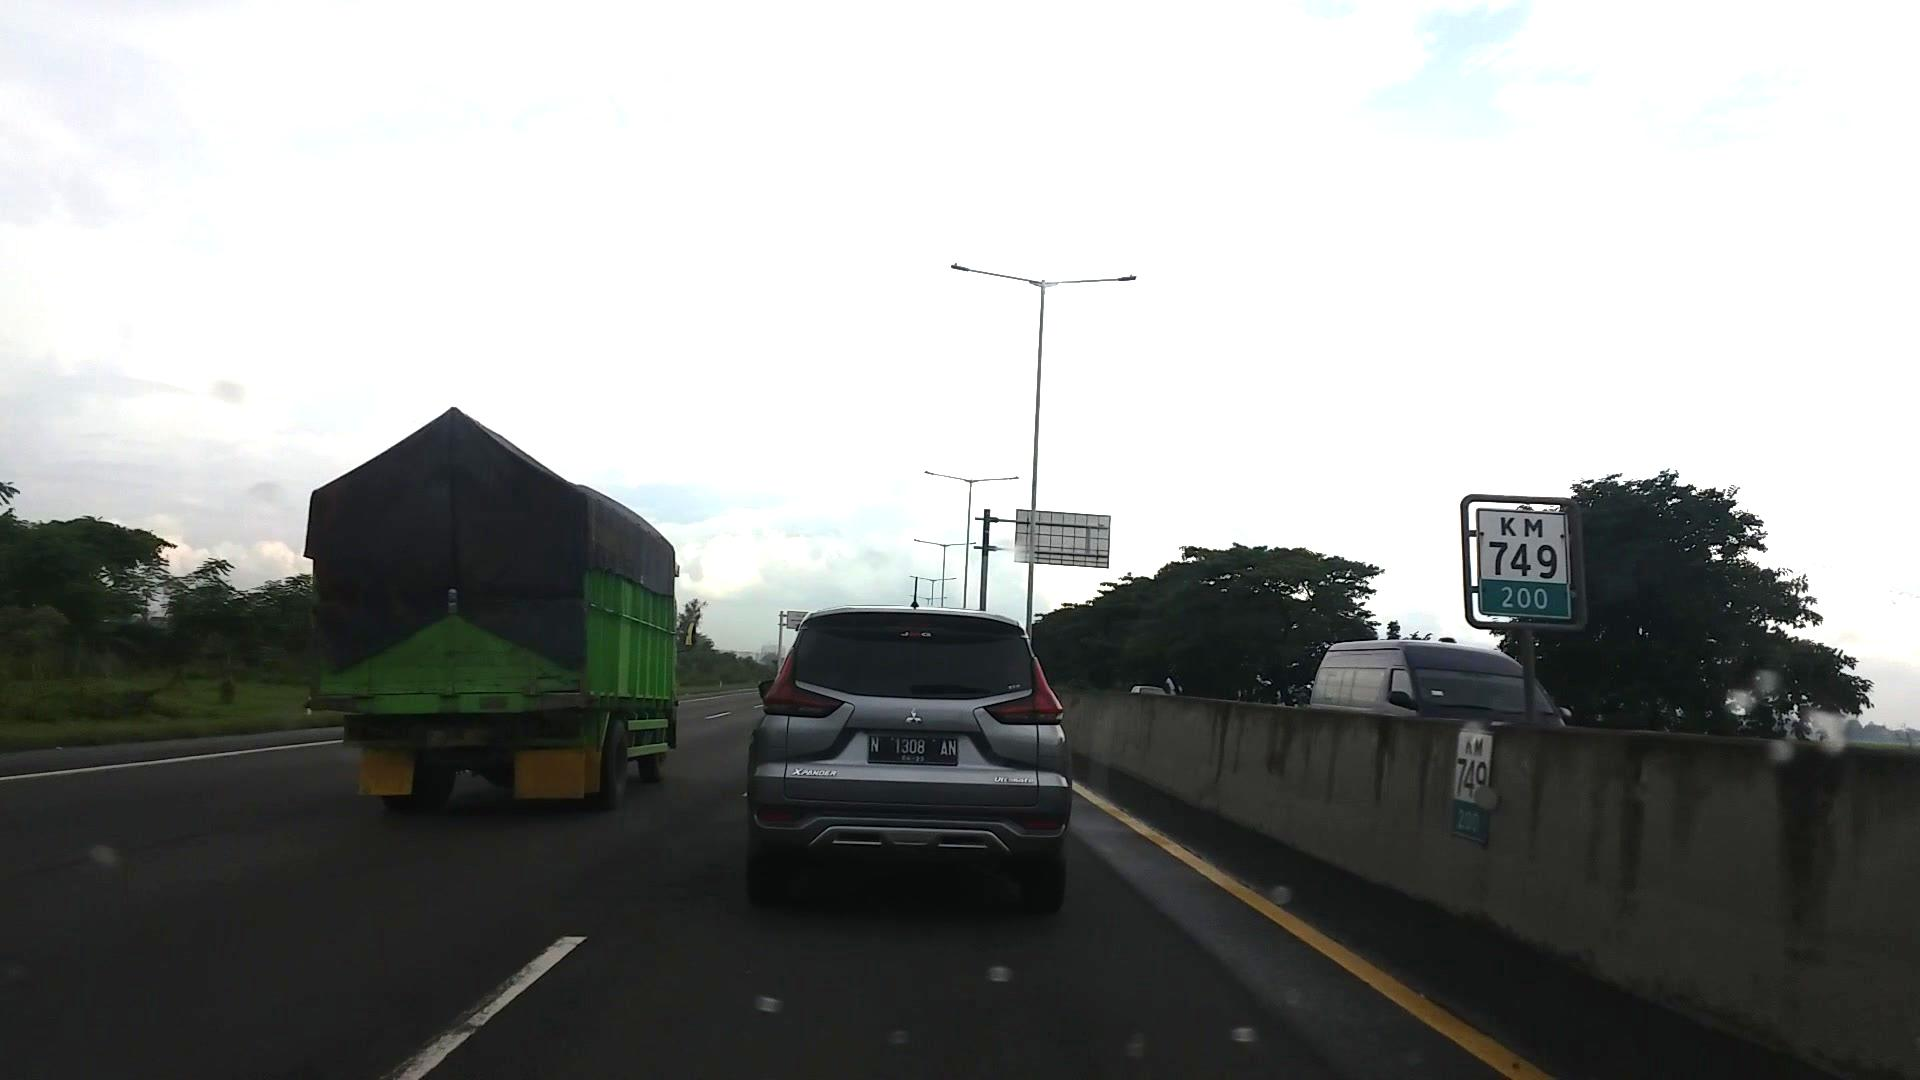plate_positive: (868, 733, 957, 766)
